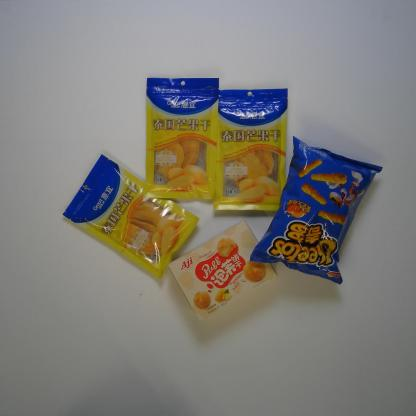Dessert: (167, 219, 278, 324)
Dried Fruit: (58, 149, 200, 284), (140, 74, 223, 201), (212, 84, 291, 213)
Puffed Food: (245, 134, 387, 287)
